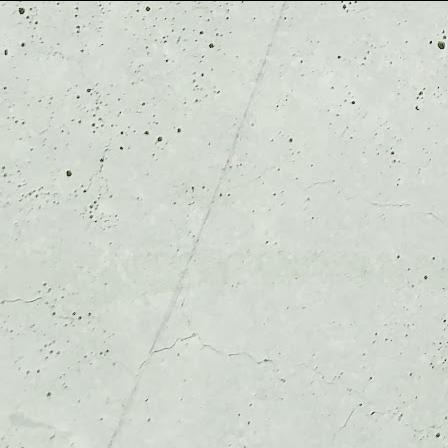crack: (151, 321, 369, 409), (296, 170, 448, 254), (0, 281, 115, 345), (77, 124, 127, 198), (336, 401, 447, 432)
